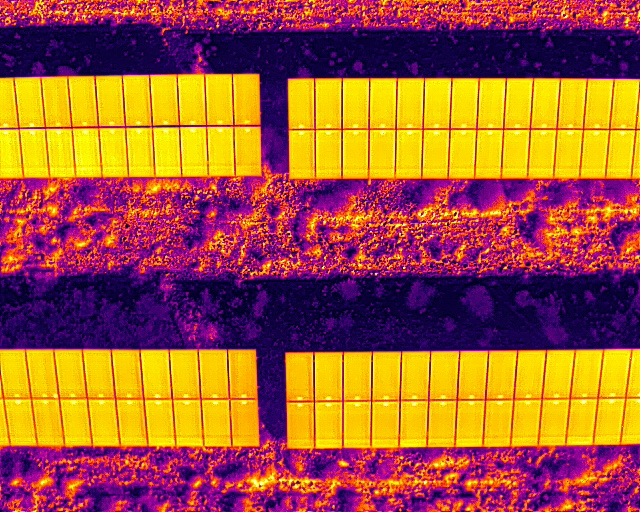photovoltaic_panels: (286, 74, 638, 180), (283, 349, 637, 446), (3, 72, 263, 179), (1, 345, 260, 448)
